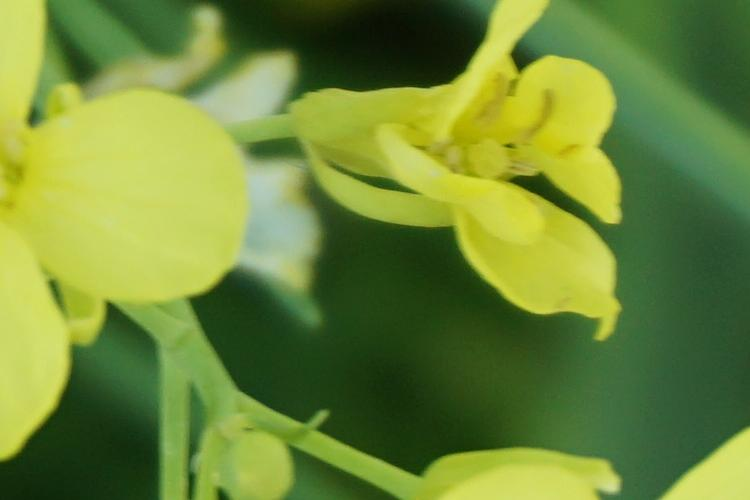yellow: (292, 10, 663, 349), (1, 1, 246, 442), (394, 424, 621, 500)
